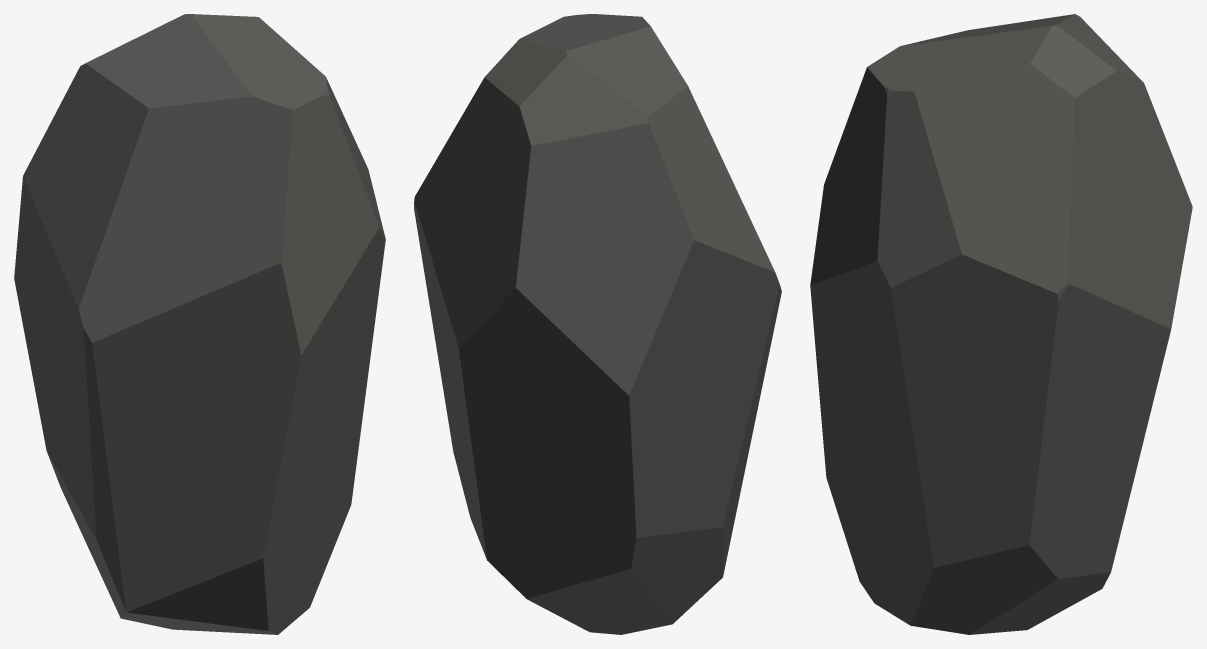
Rendered from SM_Envr_Nature_Rock_13.fbx.
The picture shows the model from 3 angles, left to right: view 1: azimuth 30°, elevation 25°; view 2: azimuth 150°, elevation 25°; view 3: azimuth 270°, elevation 25°; orthographic projection. The views are drawn at different scales.
Parts seen in each view (by area): view 1: SM_Envr_Nature_Rock_13; view 2: SM_Envr_Nature_Rock_13; view 3: SM_Envr_Nature_Rock_13.
Part boxes in pixels (box(x1,y1,x2,y2)): SM_Envr_Nature_Rock_13: box(14, 14, 385, 634); SM_Envr_Nature_Rock_13: box(414, 14, 781, 634); SM_Envr_Nature_Rock_13: box(810, 14, 1192, 634).
Bounding box in the file's own units: 191 × 347 × 196.
